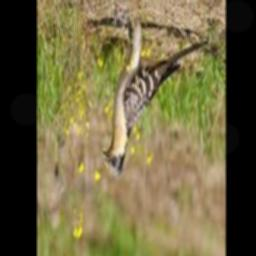Cuckoo: (103, 18, 207, 177)
